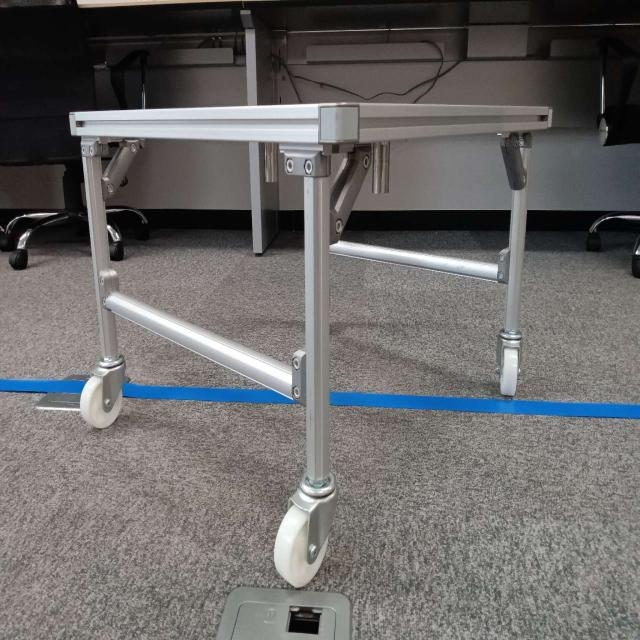door: (318, 101, 534, 245)
side: (78, 106, 321, 396)
